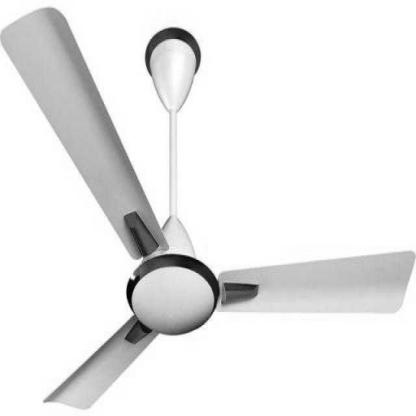ceiling-fan: (0, 6, 415, 410)
